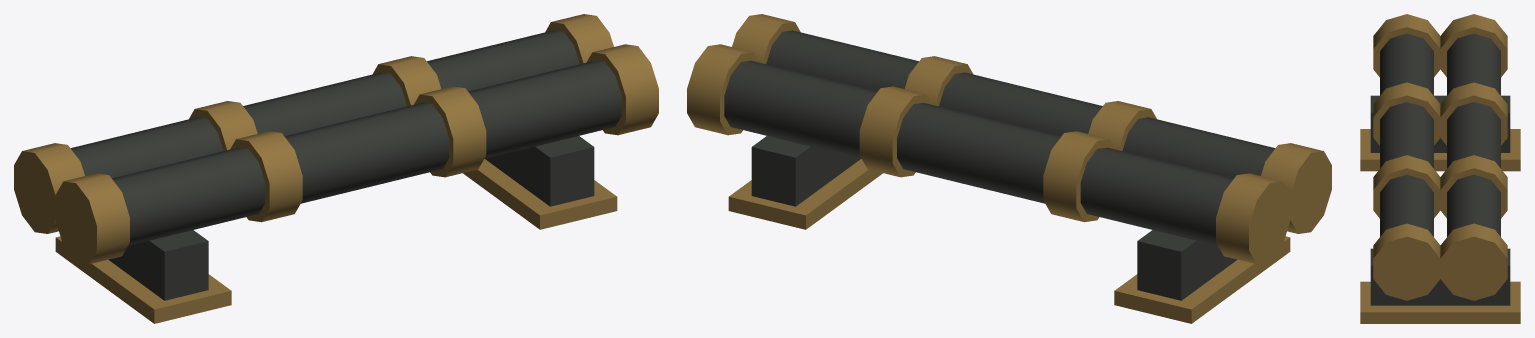
Rendered from pipes.glb.
3 renders of one model, left to right at view 1: azimuth 30°, elevation 25°; view 2: azimuth 150°, elevation 25°; view 3: azimuth 270°, elevation 25°, orthographic. The views are drawn at different scales.
Parts seen in each view (by area): view 1: pipes; view 2: pipes; view 3: pipes.
Boxes of the visible parts, x1,y1,x2,y2 form: pipes: (14,14,658,323); pipes: (687,14,1331,323); pipes: (1360,14,1520,323).
Bounding box in the file's own units: 2.04 × 0.4575 × 0.62.
